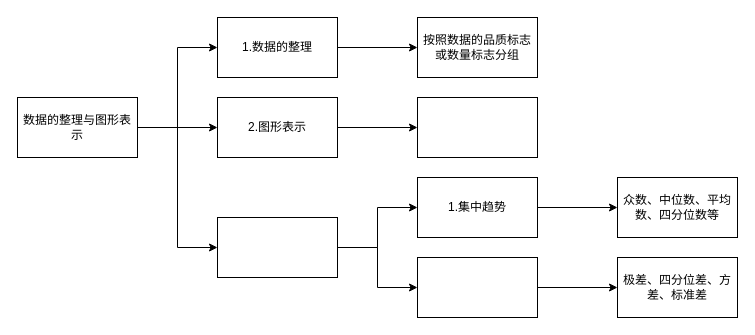
Image size: 755x335. Some labels were removed from this diagram. Each missing label, with the box of its shape:
2.离散趋势: (416, 256, 538, 318)
3.描述性指标: (216, 216, 338, 278)
饼形图、条形图与柱状图: (416, 96, 538, 158)
